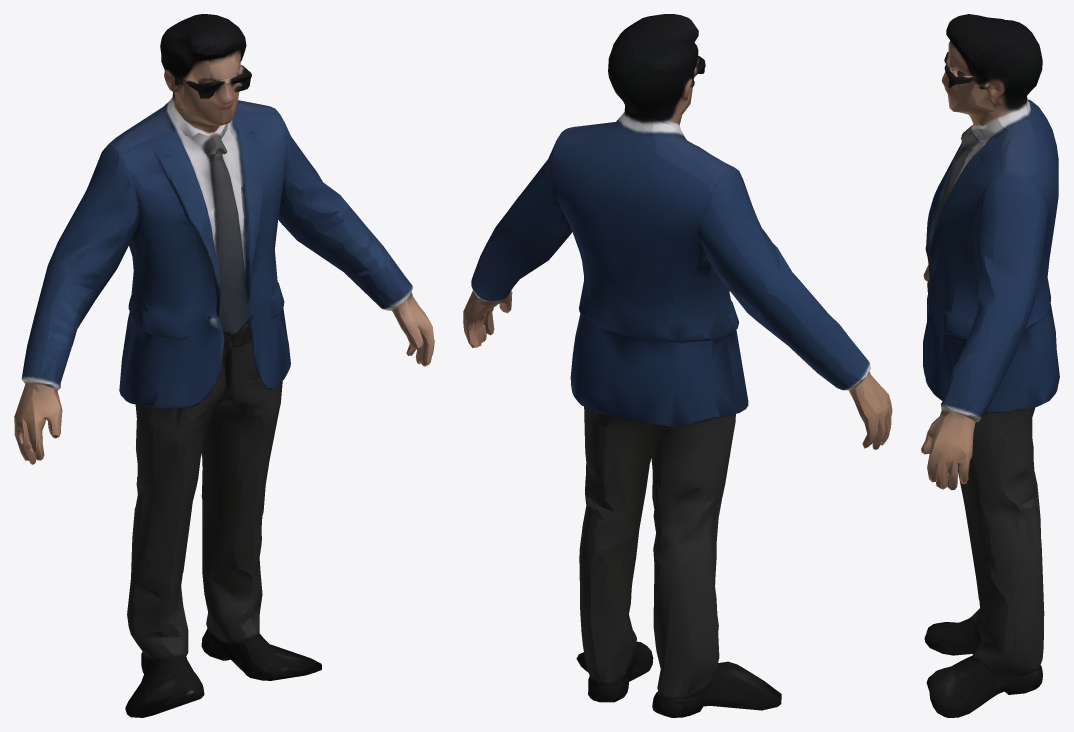
Rendered from office_m.glb.
3 views of the same model, side by side, from view 1: azimuth 30°, elevation 25°; view 2: azimuth 150°, elevation 25°; view 3: azimuth 270°, elevation 25° (orthographic). The views are drawn at different scales.
Visible parts, largest first — view 1: world; view 2: world; view 3: world.
Part boxes in pixels (box(x1,y1,x2,y2)): world: box(14, 14, 434, 717); world: box(463, 14, 892, 717); world: box(921, 14, 1059, 717).
Size of the model in its own units: 1.18 by 1.81 by 0.3468.
1 material, 1 textured.
